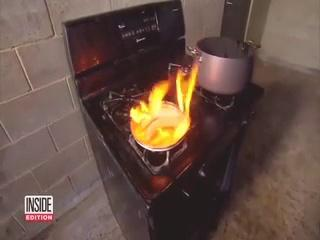Fire: (130, 82, 197, 152)
